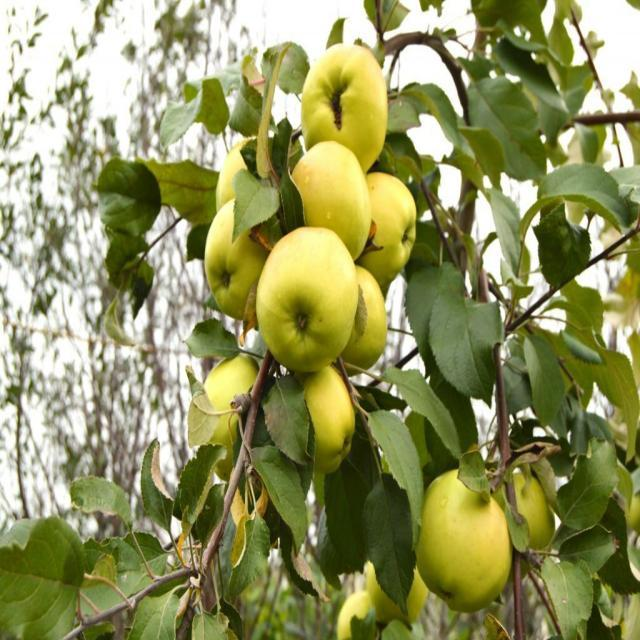Green Apple: (426, 464, 521, 631), (265, 227, 357, 364), (303, 48, 389, 158), (293, 145, 373, 255), (207, 202, 281, 313), (356, 173, 419, 275), (298, 364, 357, 463), (203, 355, 262, 449), (339, 265, 390, 371), (503, 458, 560, 549), (218, 134, 268, 217), (371, 563, 426, 623), (338, 584, 376, 640)
